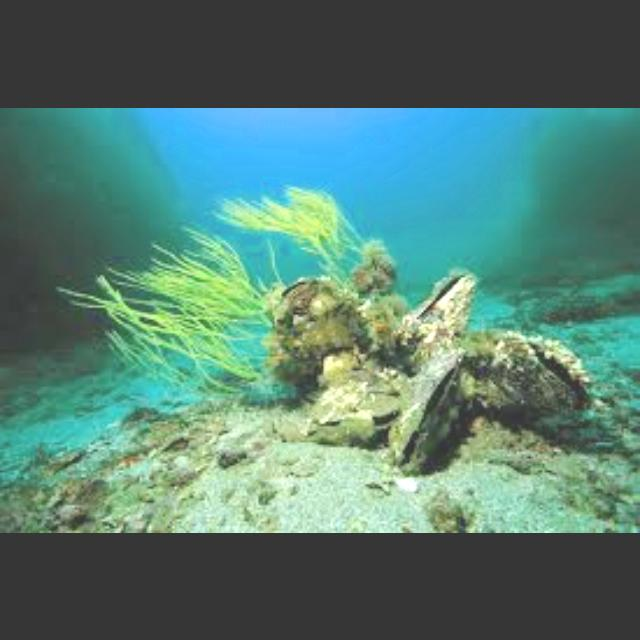Oyster-Closed: (268, 277, 371, 386)
Oyster-Open: (465, 331, 589, 413), (389, 347, 464, 473), (305, 363, 409, 432), (398, 273, 476, 353)
